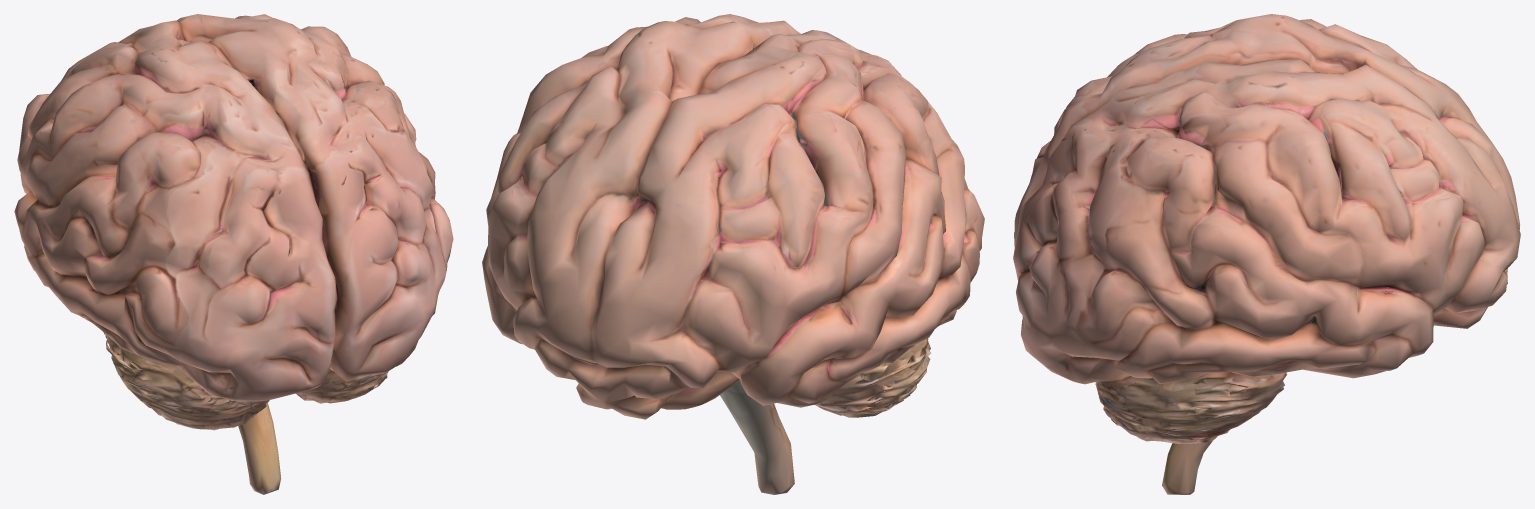
File: brain.glb
The picture shows the model from 3 angles, left to right: view 1: azimuth 30°, elevation 25°; view 2: azimuth 150°, elevation 25°; view 3: azimuth 270°, elevation 25°; orthographic projection. The views are drawn at different scales.
Size of the model in its own units: 1.73 by 1.94 by 2.
Materials: 1 (1 with a texture image).
